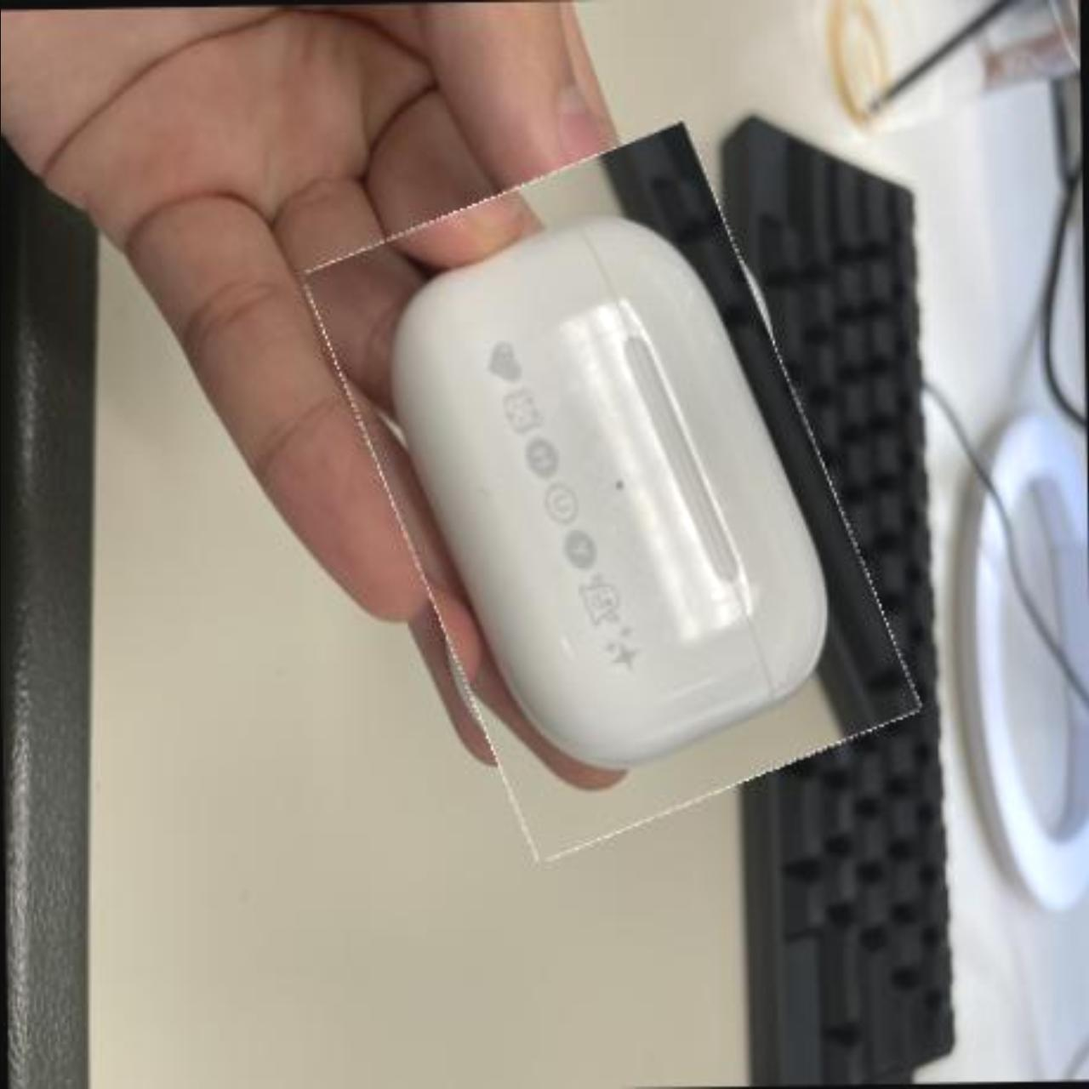AirPods: (351, 143, 873, 839)
